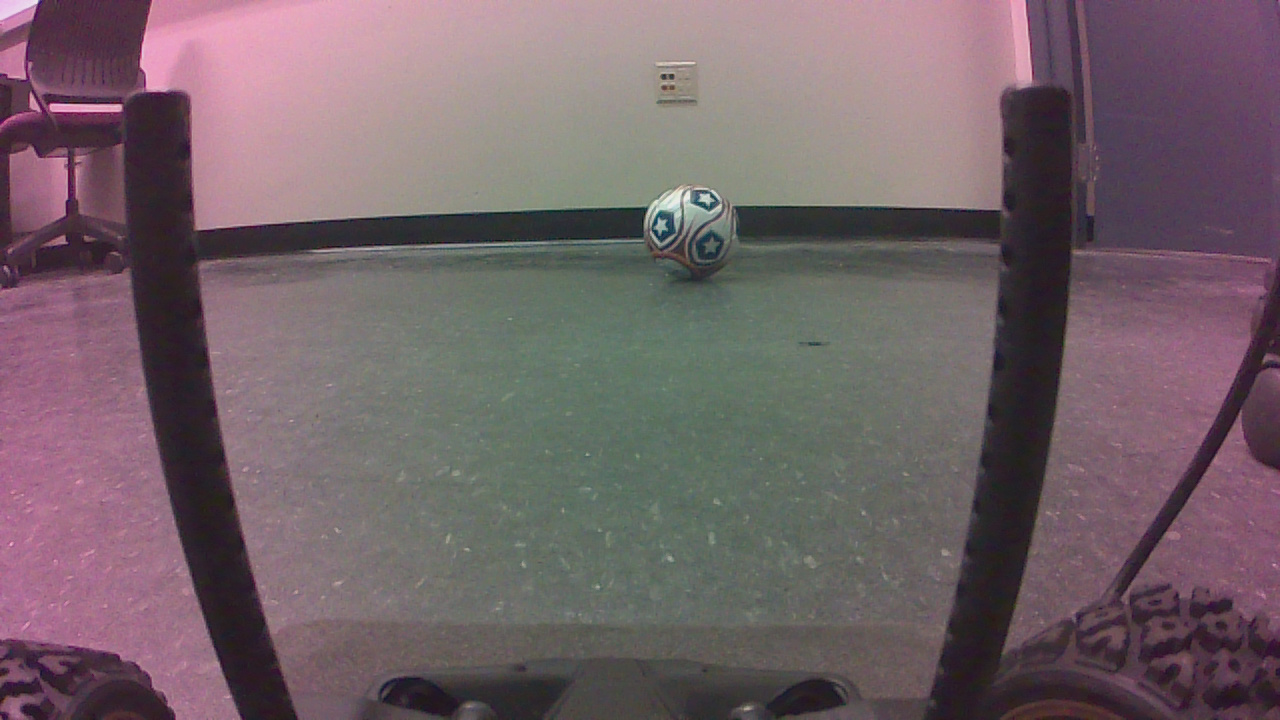ball: (649, 190, 748, 287)
